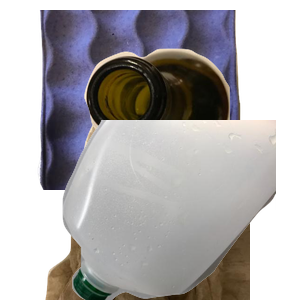glass: (82, 46, 300, 199)
paper: (35, 10, 268, 190)
plastic: (60, 120, 300, 300)
trash: (43, 120, 283, 300)
